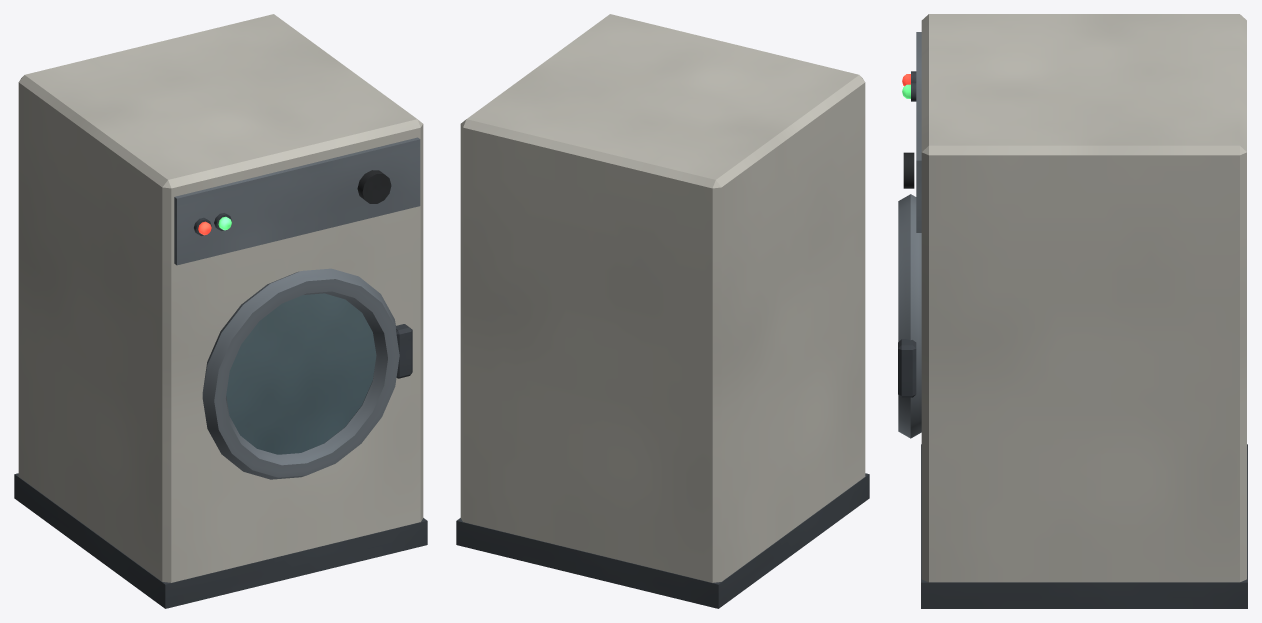
Rendered from washer.fbx.
The picture shows the model from 3 angles, left to right: view 1: azimuth 30°, elevation 25°; view 2: azimuth 150°, elevation 25°; view 3: azimuth 270°, elevation 25°; orthographic projection. The views are drawn at different scales.
Visible parts, largest first — view 1: washer, washer_dial; view 2: washer; view 3: washer.
Boxes of the visible parts, bbox=[...] form: washer: bbox=[14, 14, 427, 608]; washer_dial: bbox=[357, 170, 391, 203]; washer: bbox=[456, 14, 869, 608]; washer: bbox=[898, 14, 1247, 608].
Size of the model in its own units: 0.904 by 1.4 by 0.965.
1 material, 1 textured.
